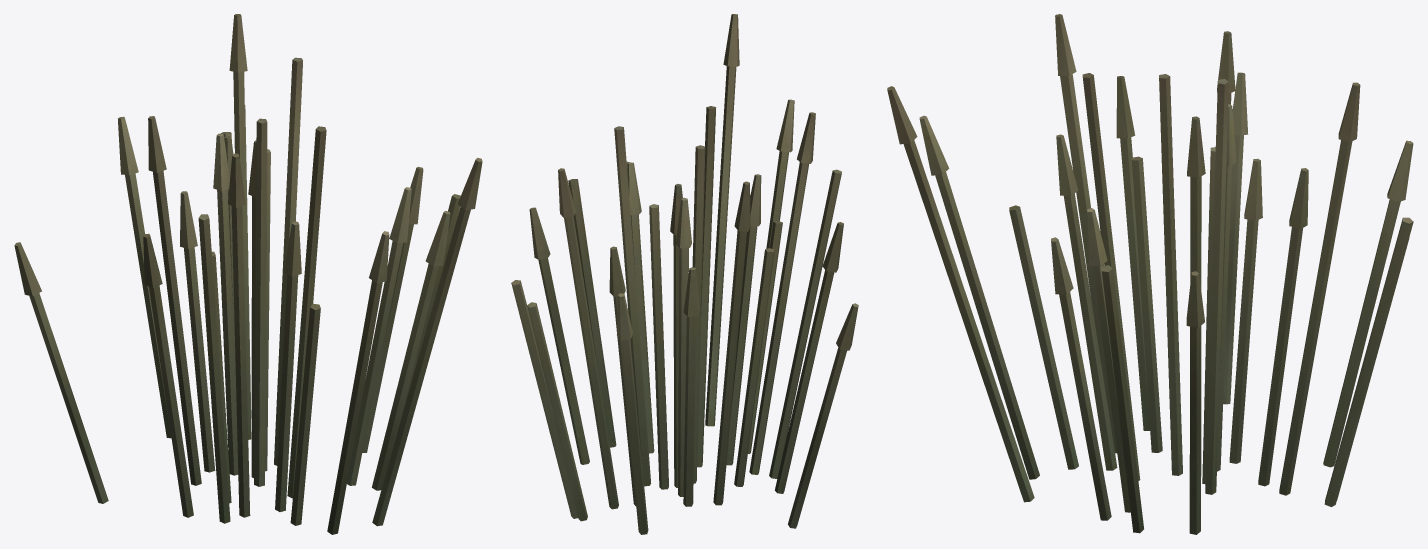
File: a39_reed.glb
3 views of the same model, side by side, from view 1: azimuth 30°, elevation 25°; view 2: azimuth 150°, elevation 25°; view 3: azimuth 270°, elevation 25° (orthographic). The views are drawn at different scales.
Visible parts, largest first — view 1: body; view 2: body; view 3: body.
Boxes of the visible parts, <box> form: body: <box>14,14,482,534</box>; body: <box>511,14,858,534</box>; body: <box>887,14,1413,534</box>.
Size of the model in its own units: 0.9095 by 0.9074 by 1.
Materials: 1 (1 with a texture image).
